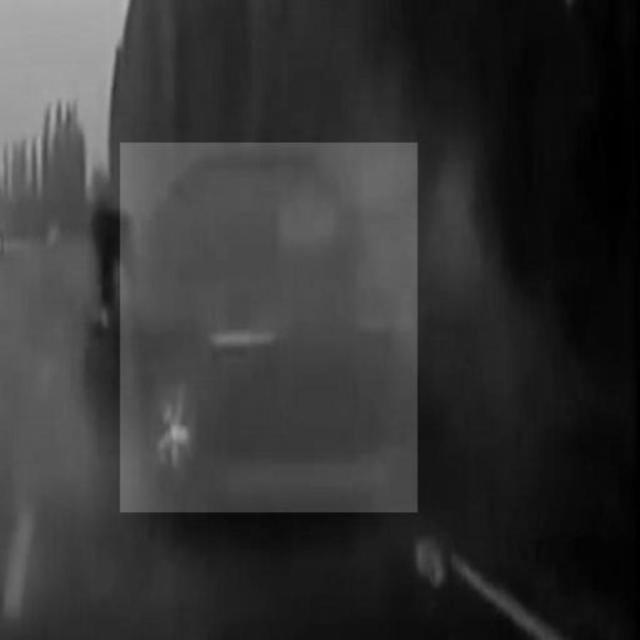vehicle: (120, 143, 418, 513)
